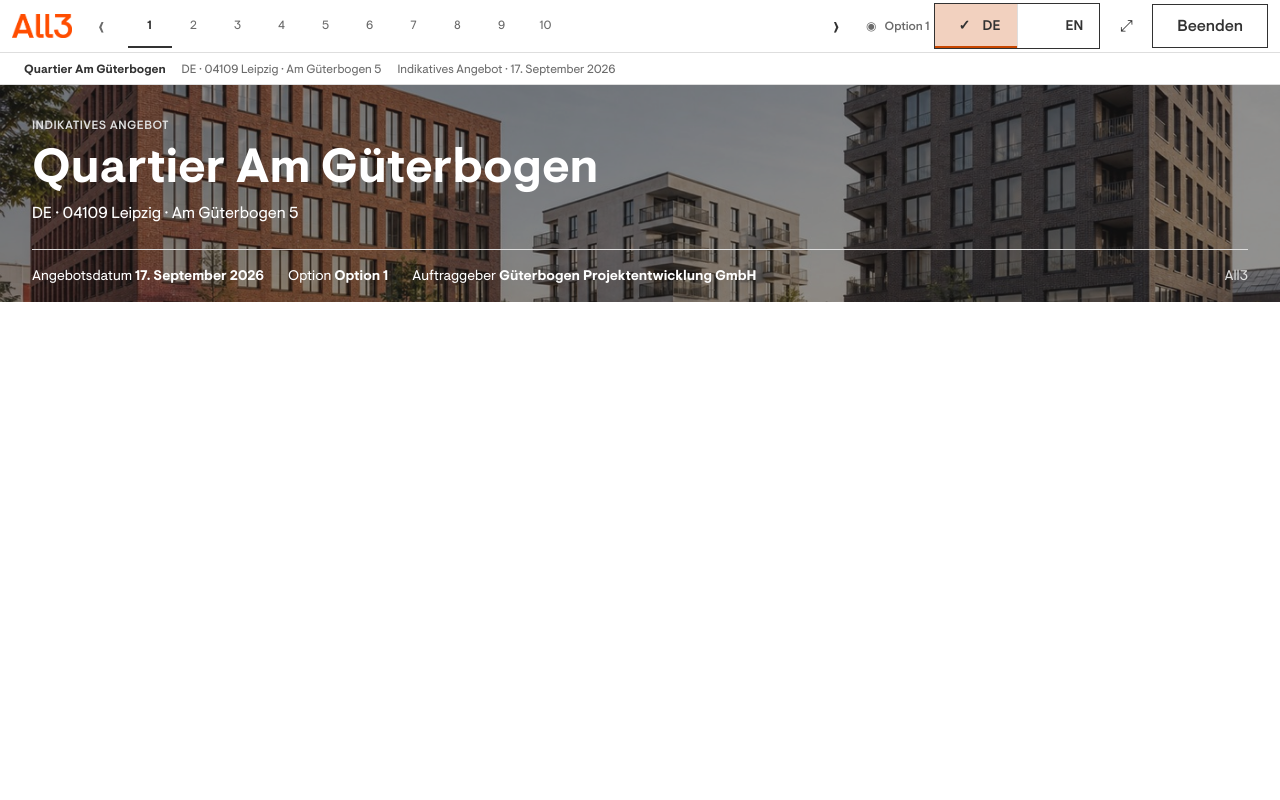
Test: ACCEPT-03 · the client lead metric states its unit › prints prefix, unit and denominator on the Preiszusammensetzung chapter (DE)
The width and height of the screenshot is (1280, 800).
Click the button "5" at (326, 26), box [304,4,348,48]
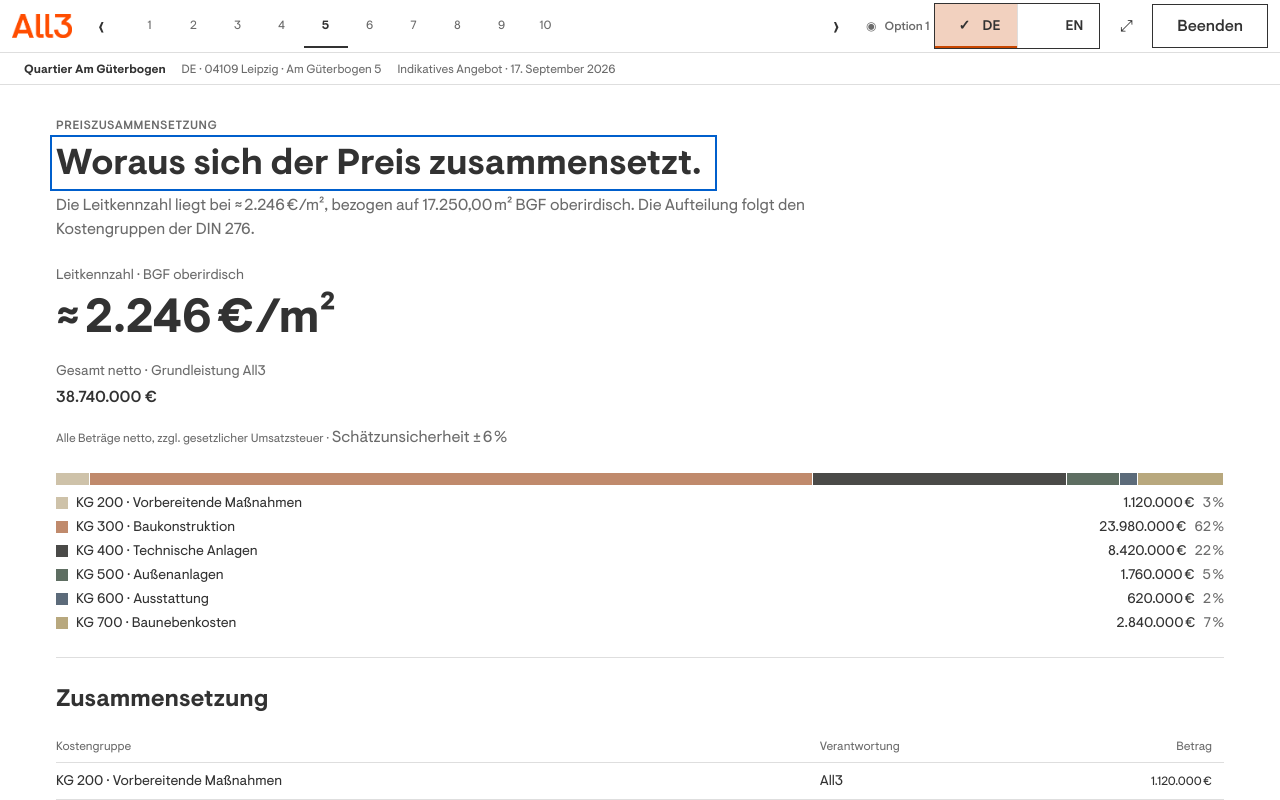
expect the text with class "a3-cp-metric-label" shows "Leitkennzahl": met, box [56,265,244,284]
expect the text with class "a3-cp-metric-label" reads "Leitkennzahl · BGF oberirdisch": met, box [56,265,244,284]
expect the text with class "a3-cp-metric-co" shows "€/m²": met, box [56,285,336,349]
